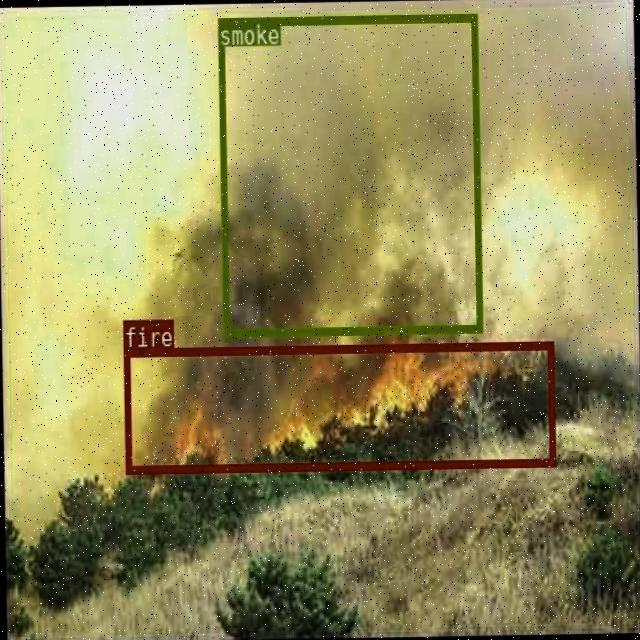fire: (122, 341, 554, 472)
smoke: (216, 12, 482, 336)
